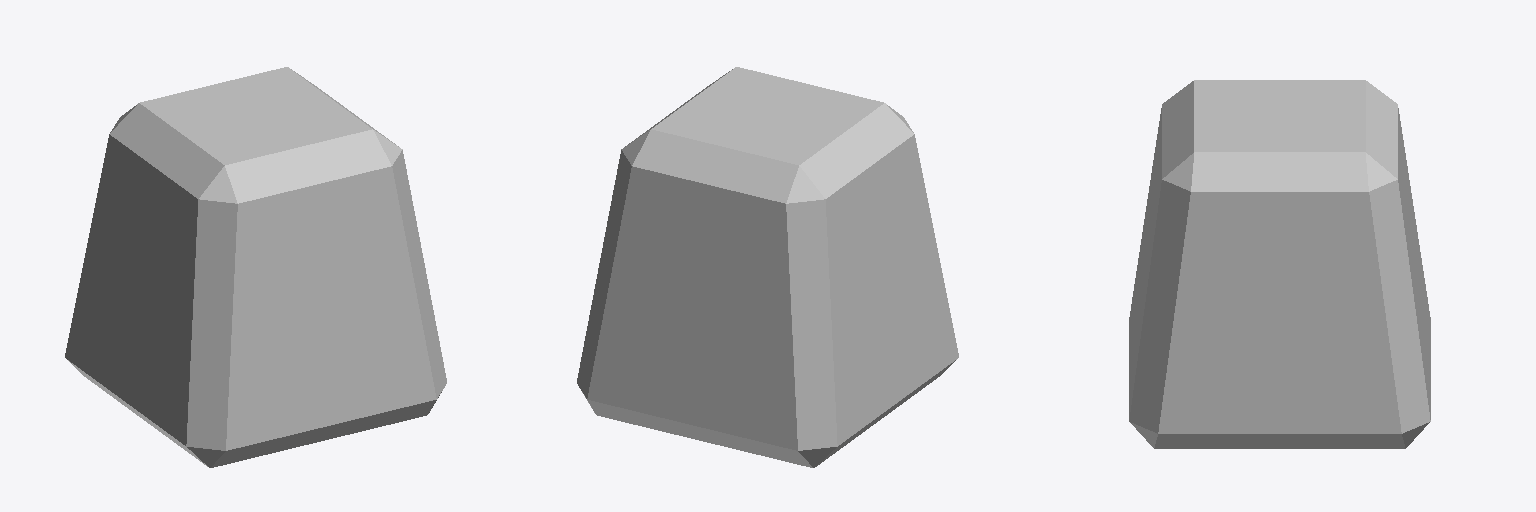
File: Rock_2_B_Color1.obj
The picture shows the model from 3 angles: view 1: azimuth 30°, elevation 25°; view 2: azimuth 150°, elevation 25°; view 3: azimuth 270°, elevation 25°; orthographic projection.
Parts seen in each view (by area): view 1: Rock_2_B_Color1; view 2: Rock_2_B_Color1; view 3: Rock_2_B_Color1.
Part boxes in pixels (x1,y1,x2,y2): Rock_2_B_Color1: (65, 67, 446, 467); Rock_2_B_Color1: (577, 67, 958, 467); Rock_2_B_Color1: (1129, 80, 1430, 448).
Bounding box in the file's own units: 0.6301 × 0.6455 × 0.6301.